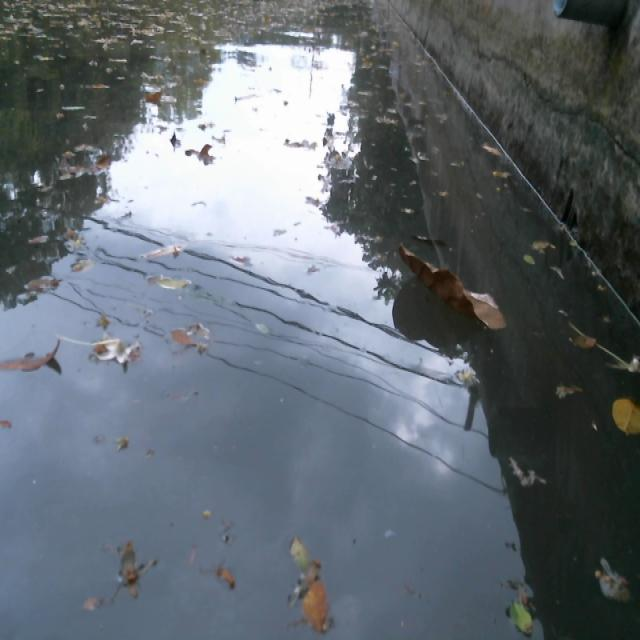Big-leaf: (392, 241, 508, 335)
Small-leaf: (1, 336, 62, 376), (298, 575, 333, 637), (90, 331, 144, 371), (588, 560, 635, 605), (605, 391, 640, 441), (116, 534, 141, 597), (142, 269, 197, 294), (505, 595, 537, 637), (137, 239, 189, 261), (287, 530, 313, 572), (184, 136, 217, 164), (21, 272, 62, 294), (166, 321, 198, 348), (553, 378, 584, 405), (212, 567, 242, 594), (568, 331, 602, 354), (142, 83, 168, 111), (89, 149, 113, 175), (66, 256, 97, 274), (252, 313, 274, 338), (476, 141, 506, 159), (528, 235, 555, 255), (488, 166, 512, 183), (519, 250, 540, 267), (168, 128, 184, 148), (550, 261, 565, 279)
